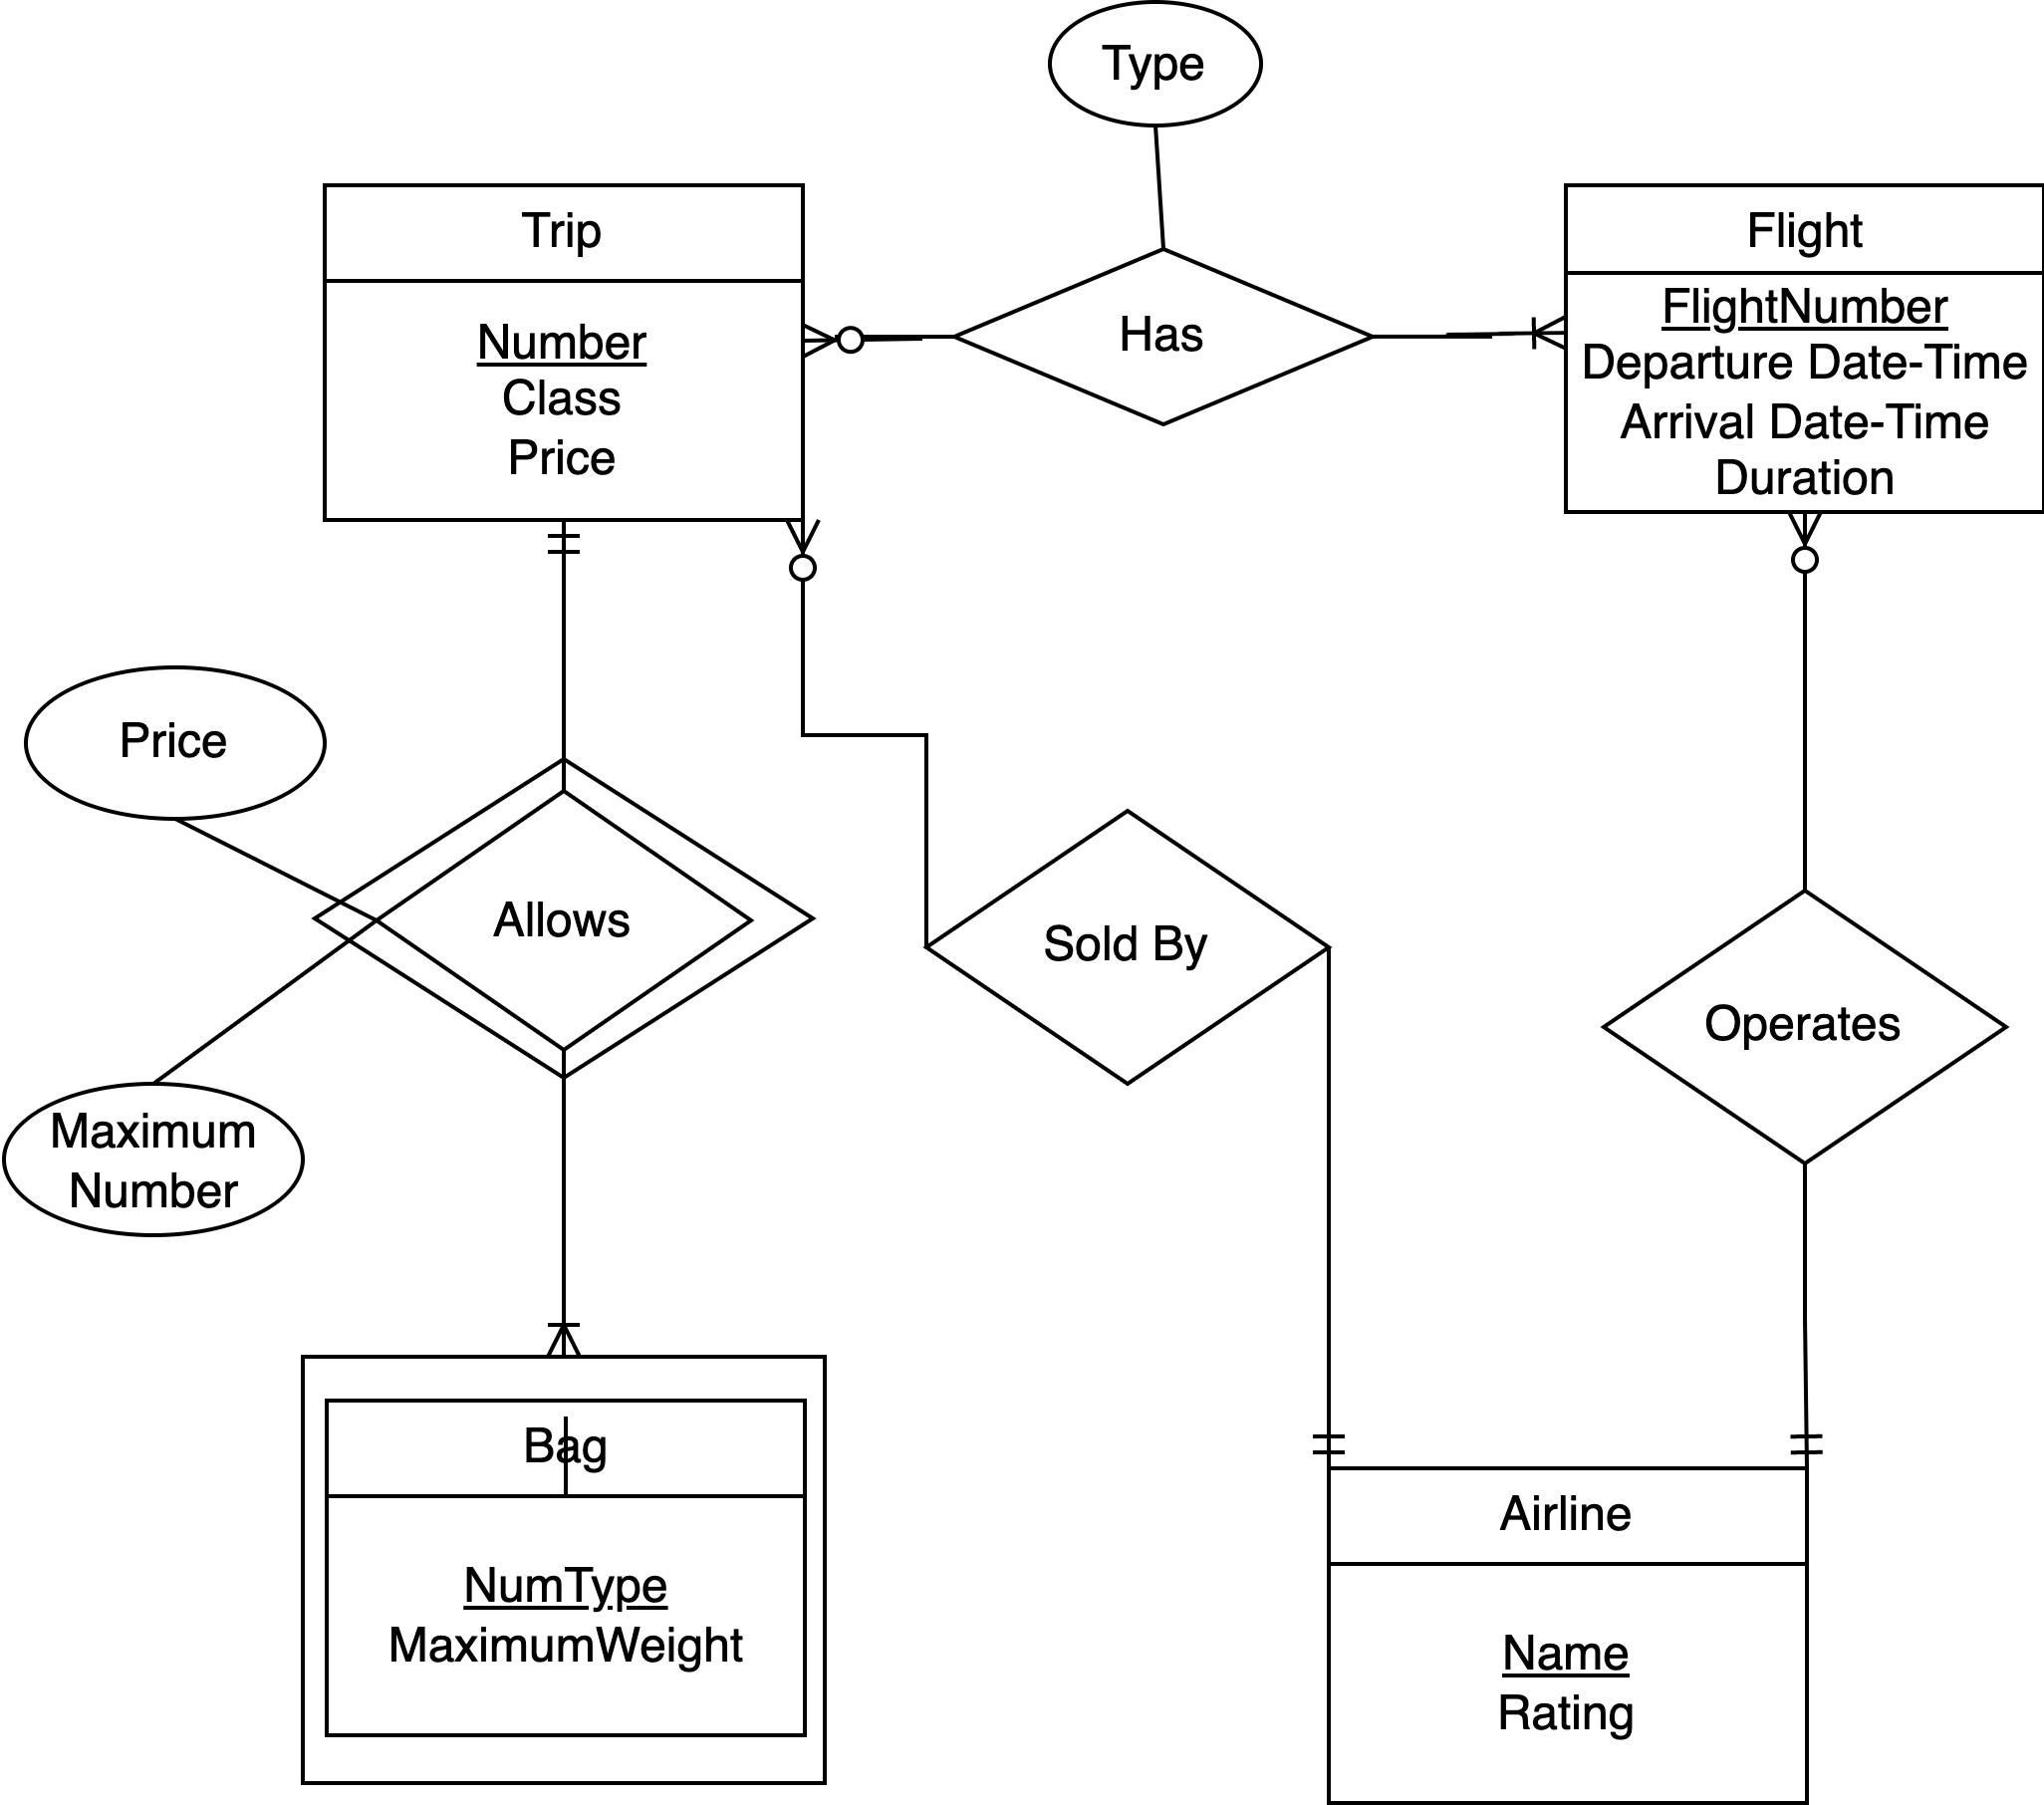attribute: (2, 1085, 305, 1237), (21, 667, 329, 815), (1052, 2, 1262, 124)
entity: (314, 172, 809, 521), (1323, 1460, 1809, 1805), (1561, 179, 2044, 519)
relationship: (1605, 892, 2009, 1166), (932, 812, 1330, 1084), (957, 256, 1373, 423)
weakentity: (288, 1350, 831, 1795)
weakrelationship: (319, 767, 816, 1078)
